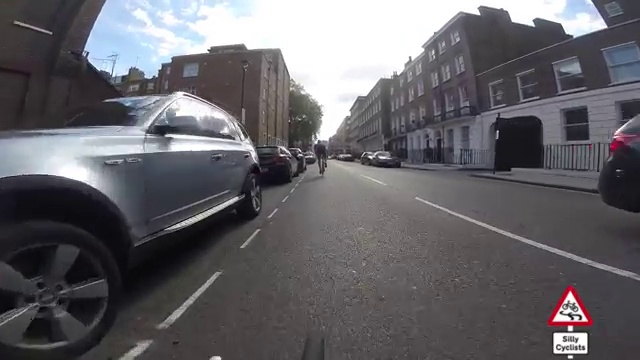cyclist_back: (310, 135, 332, 178)
